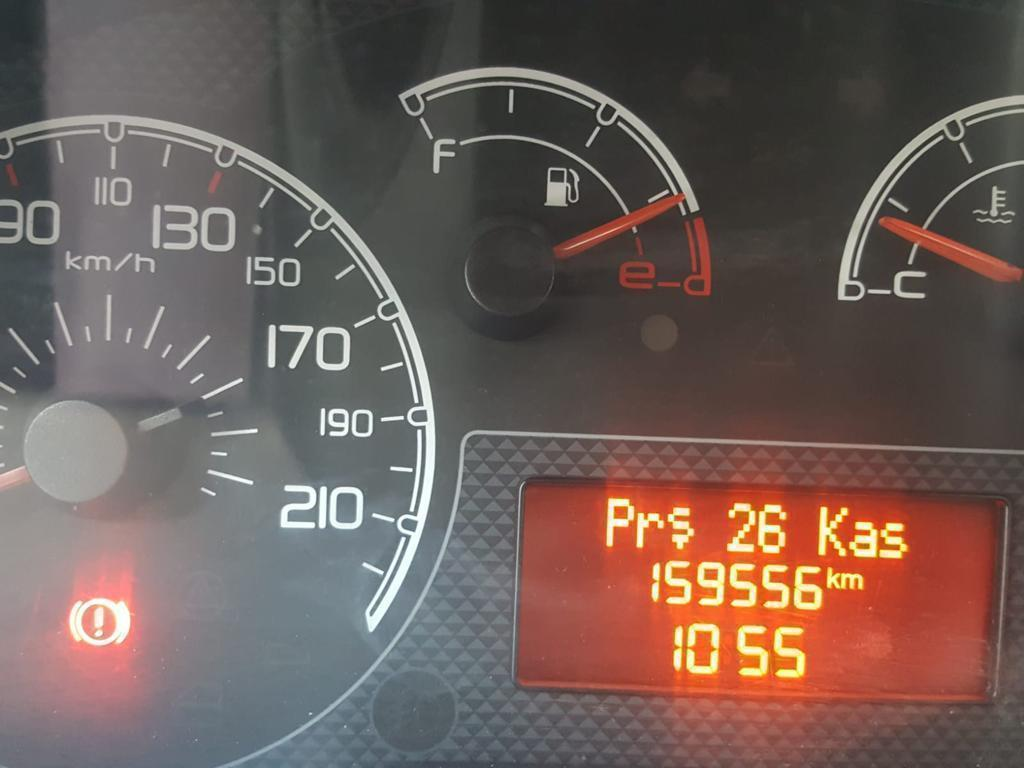0: (685, 622, 721, 675)
1: (672, 624, 684, 672), (649, 561, 662, 602)
2: (725, 502, 756, 553)
5: (772, 625, 807, 678), (735, 624, 768, 676), (760, 564, 790, 609), (728, 562, 757, 607), (664, 559, 692, 605)
6: (757, 503, 787, 553), (792, 565, 824, 611)
9: (694, 561, 725, 606)
X: (816, 505, 849, 557), (604, 497, 635, 548), (665, 506, 695, 549), (878, 522, 909, 559), (848, 521, 877, 559), (635, 512, 665, 548), (840, 572, 864, 590), (826, 566, 840, 589)
odometer: (509, 474, 1013, 709)
